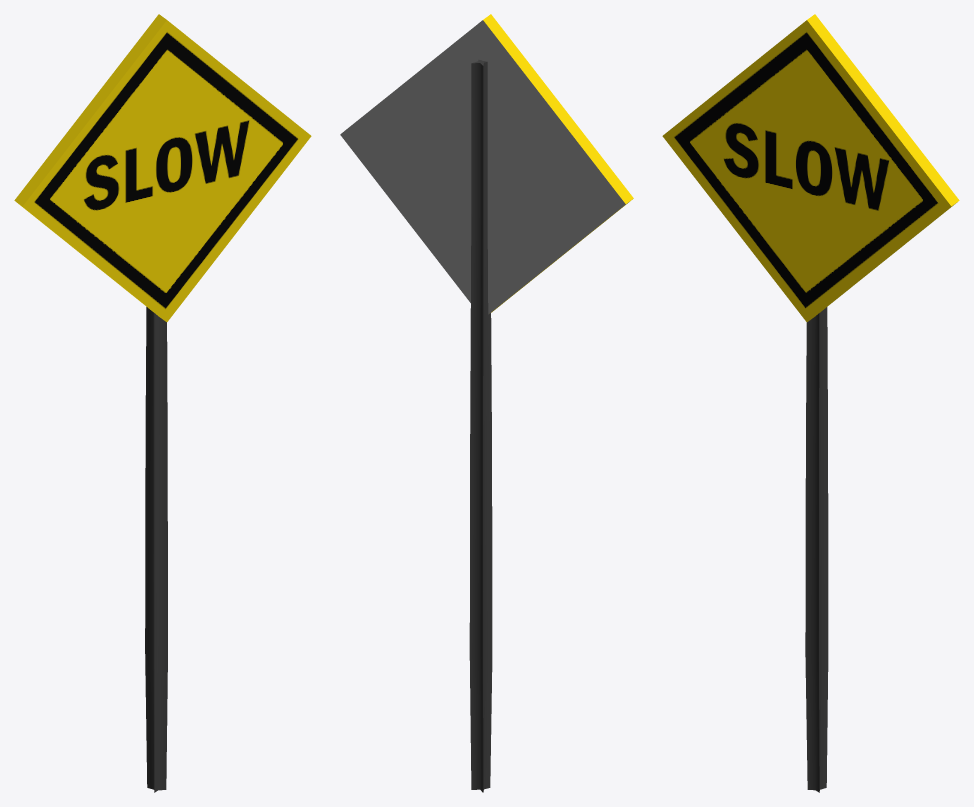
Rendered from SlowSignAsset.fbx.
3 renders of one model, left to right at view 1: azimuth 30°, elevation 25°; view 2: azimuth 150°, elevation 25°; view 3: azimuth 330°, elevation 25°, orthographic.
Parts seen in each view (by area): view 1: Slow1; view 2: Slow1; view 3: Slow1.
Boxes of the visible parts, bbox=[...] form: Slow1: bbox=[14, 14, 311, 792]; Slow1: bbox=[340, 14, 633, 792]; Slow1: bbox=[662, 14, 959, 792].
Bounding box in the file's own units: 98.24 × 252 × 8.9.
